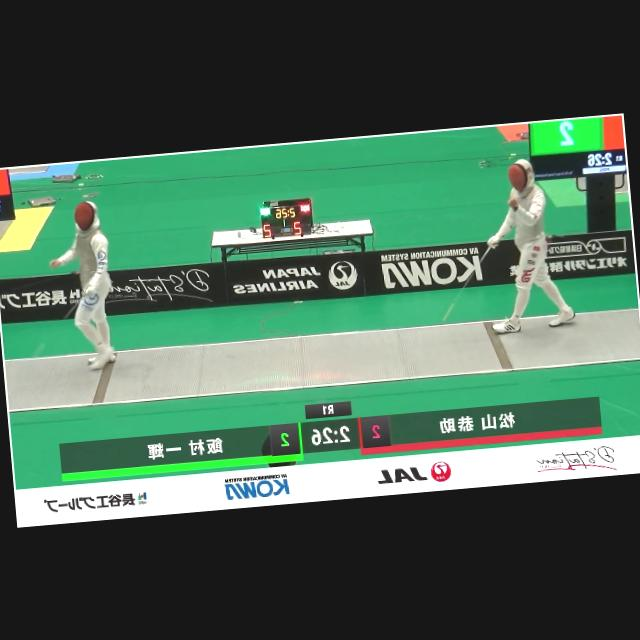blade: (431, 239, 506, 327), (28, 284, 98, 357)
